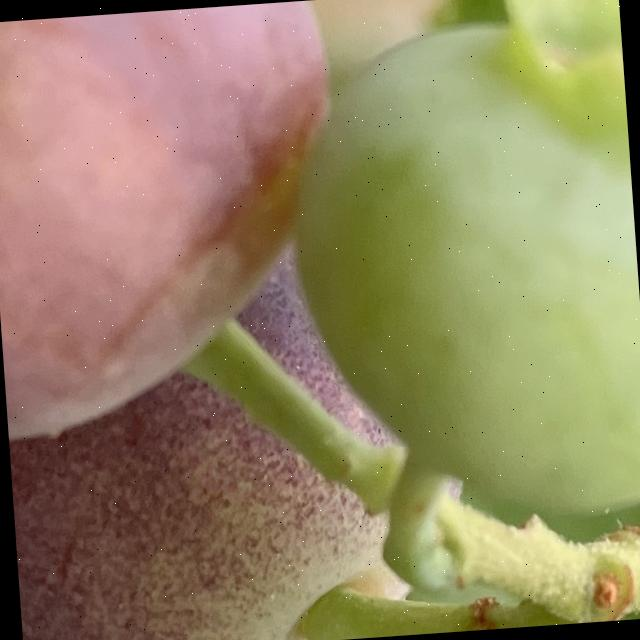Blueberries: (278, 0, 640, 543), (0, 0, 356, 447)
